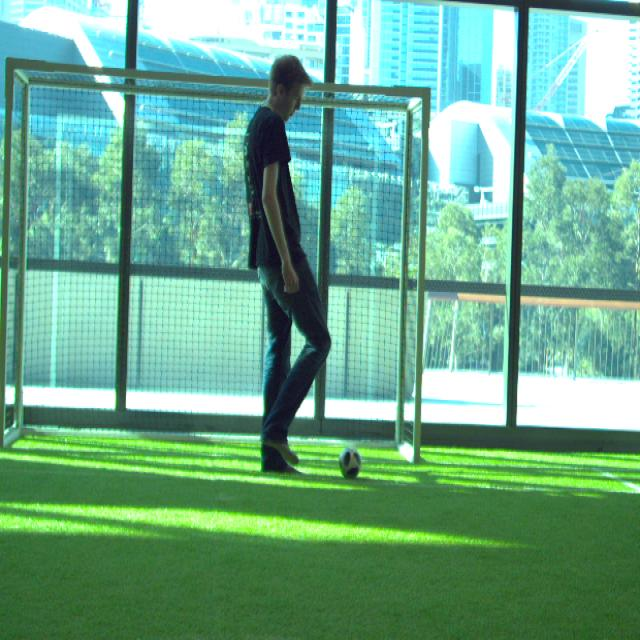ball: (338, 447, 362, 481)
goalpost: (411, 87, 429, 461), (0, 56, 15, 448)
